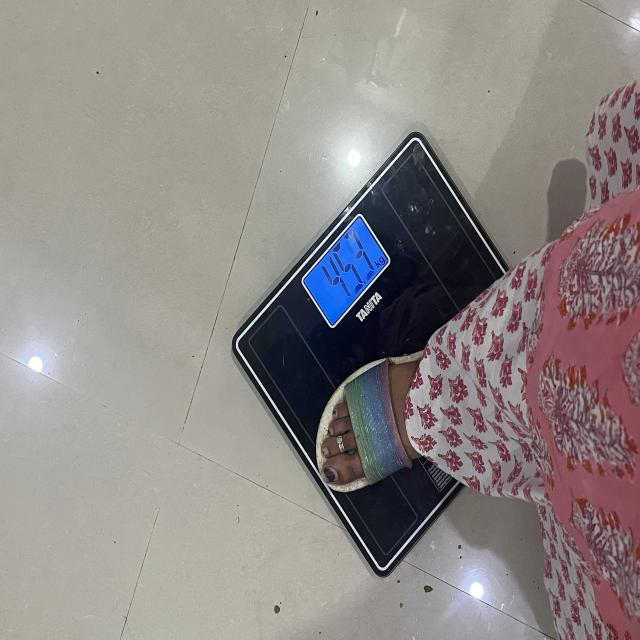ws: (231, 133, 508, 577)
